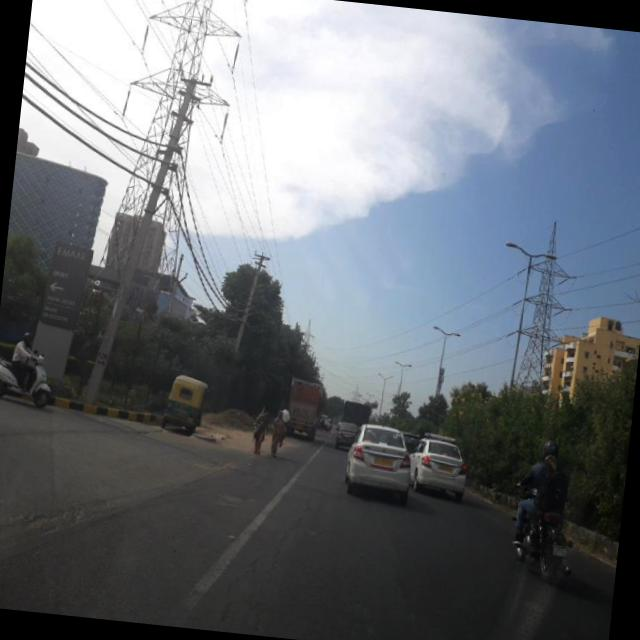crack: (174, 476, 457, 640)
pothole: (252, 491, 313, 632), (198, 538, 256, 634)
